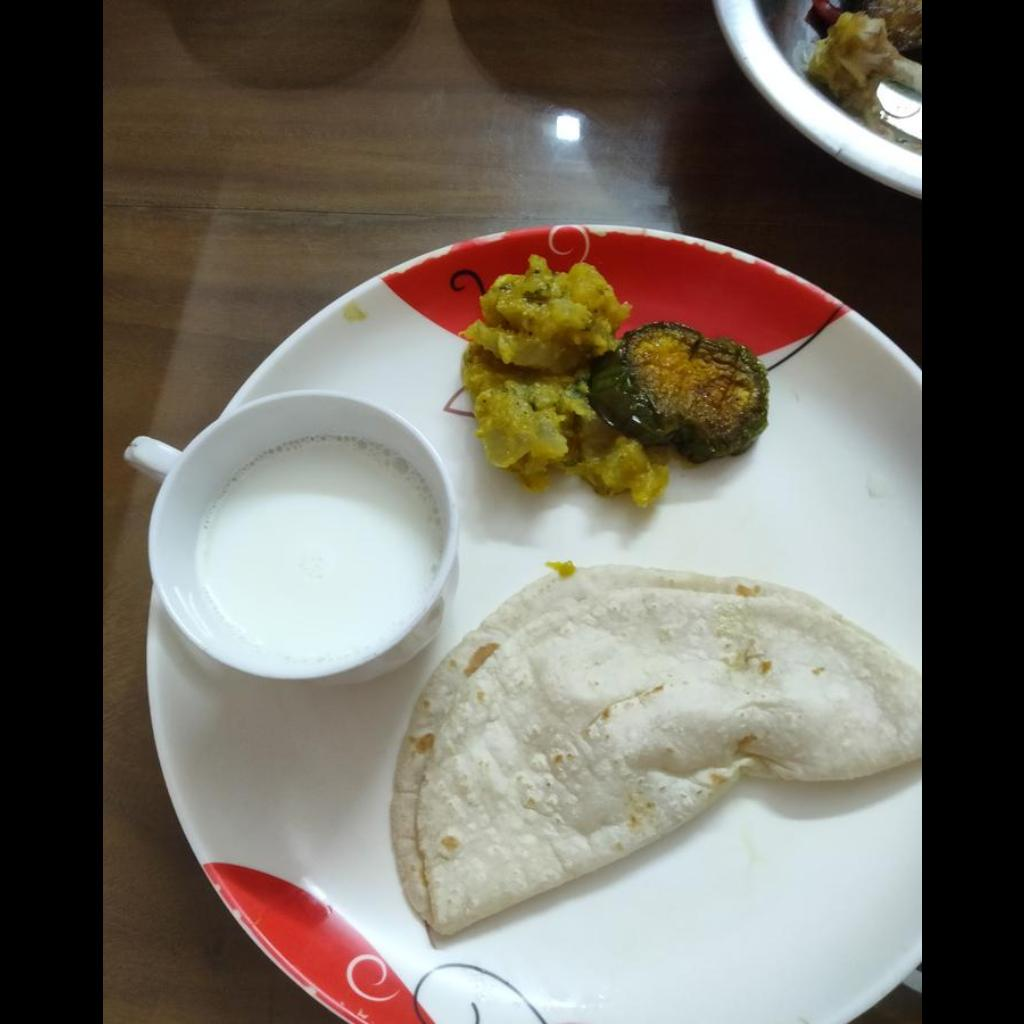milk: (198, 439, 438, 652)
ruti: (390, 569, 920, 934)
vegetable: (468, 256, 762, 500)
